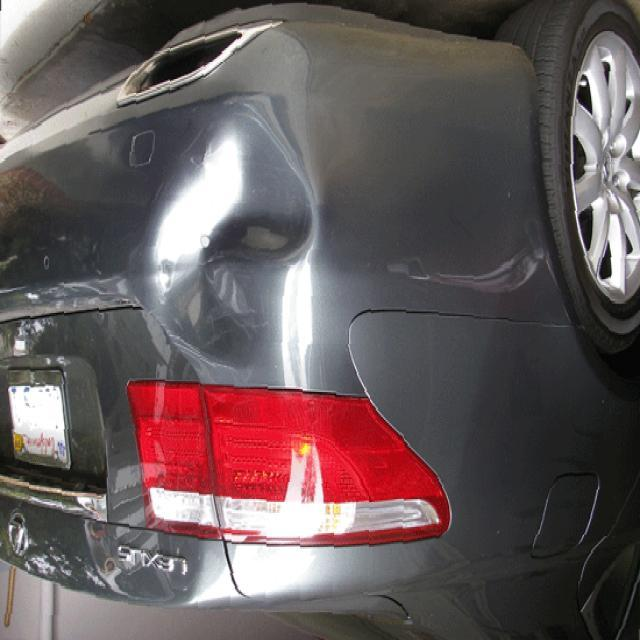dent: (134, 84, 320, 316)
